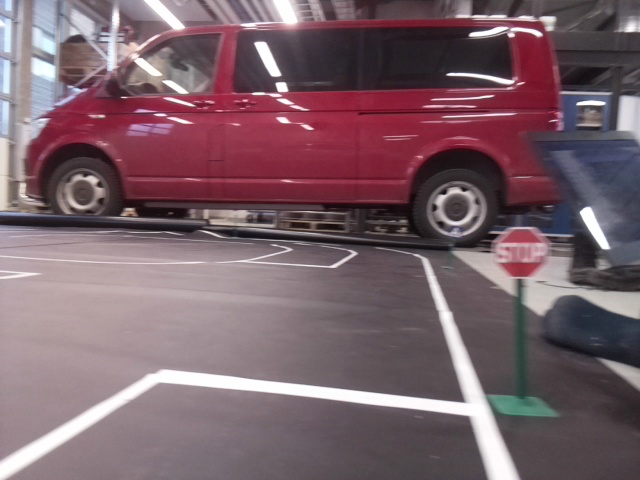Stop: (493, 228, 551, 276)
